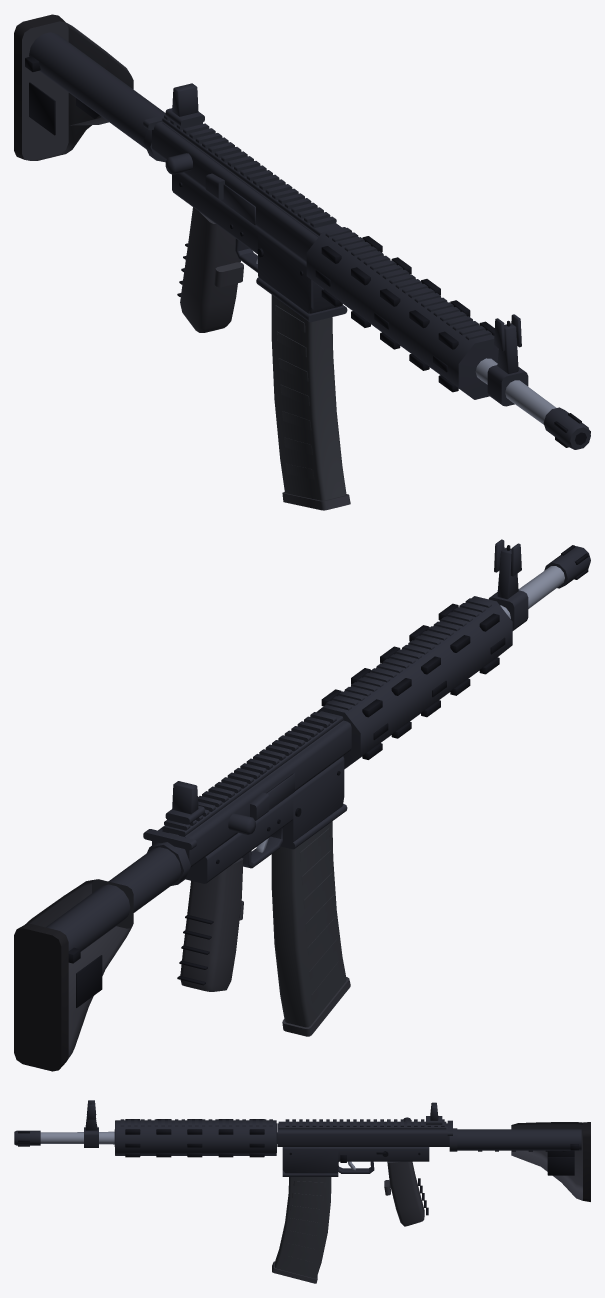
Rendered from rifle.fbx.
3 renders of one model, top to bottom at view 1: azimuth 30°, elevation 25°; view 2: azimuth 150°, elevation 25°; view 3: azimuth 270°, elevation 25°, orthographic. The views are drawn at different scales.
Visible parts, largest first — view 1: Body.005, Mag.002, DustCover; view 2: Body.005, Mag.002; view 3: Body.005, Mag.002.
Part boxes in pixels (x1=…): Body.005: x1=14, y1=14, x2=590, y2=449; Mag.002: x1=271, y1=295, x2=350, y2=510; DustCover: x1=221, y1=184, x2=255, y2=225; Body.005: x1=14, y1=539, x2=590, y2=1071; Mag.002: x1=271, y1=821, x2=350, y2=1036; Body.005: x1=14, y1=1100, x2=590, y2=1226; Mag.002: x1=272, y1=1177, x2=331, y2=1283.
Bounding box in the file's own units: 6.58 × 29.05 × 85.37.
